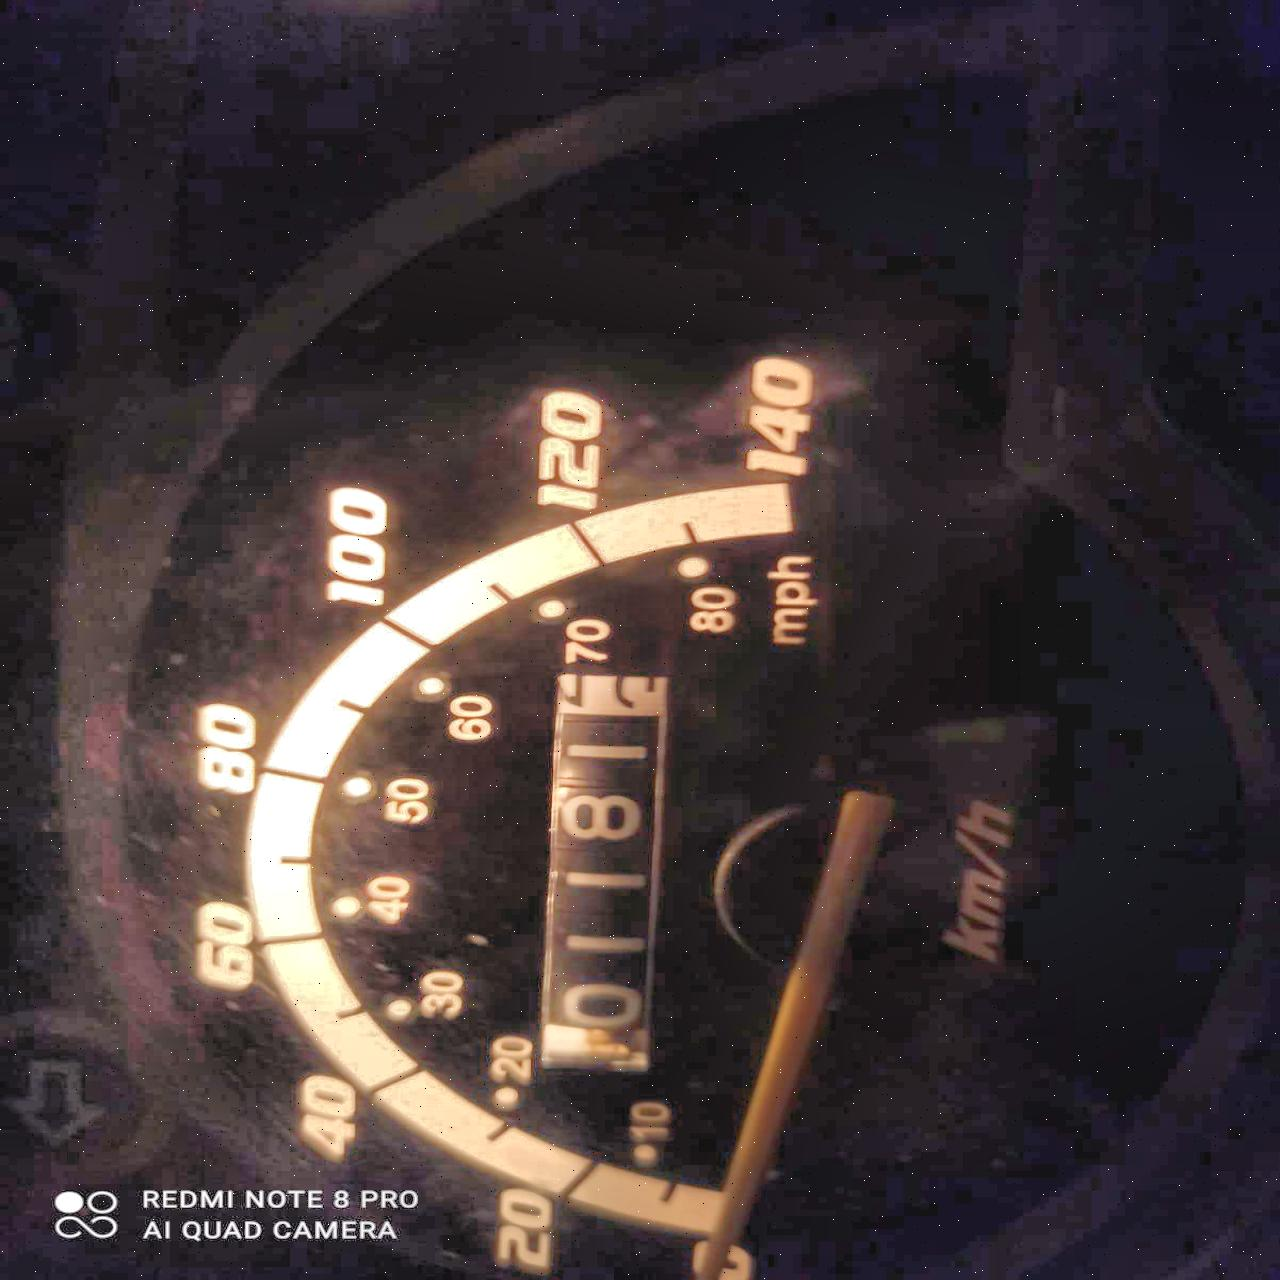0: (557, 982, 640, 1030)
1: (547, 862, 662, 897), (551, 924, 663, 958), (550, 740, 659, 764)
3: (605, 668, 675, 712)
8: (556, 789, 653, 844)
odometer: (542, 661, 680, 1088)
